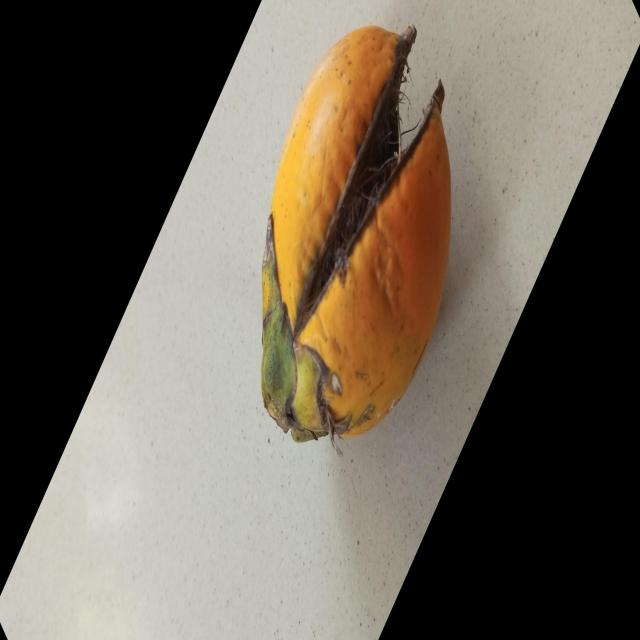damaged: (262, 27, 453, 444)
